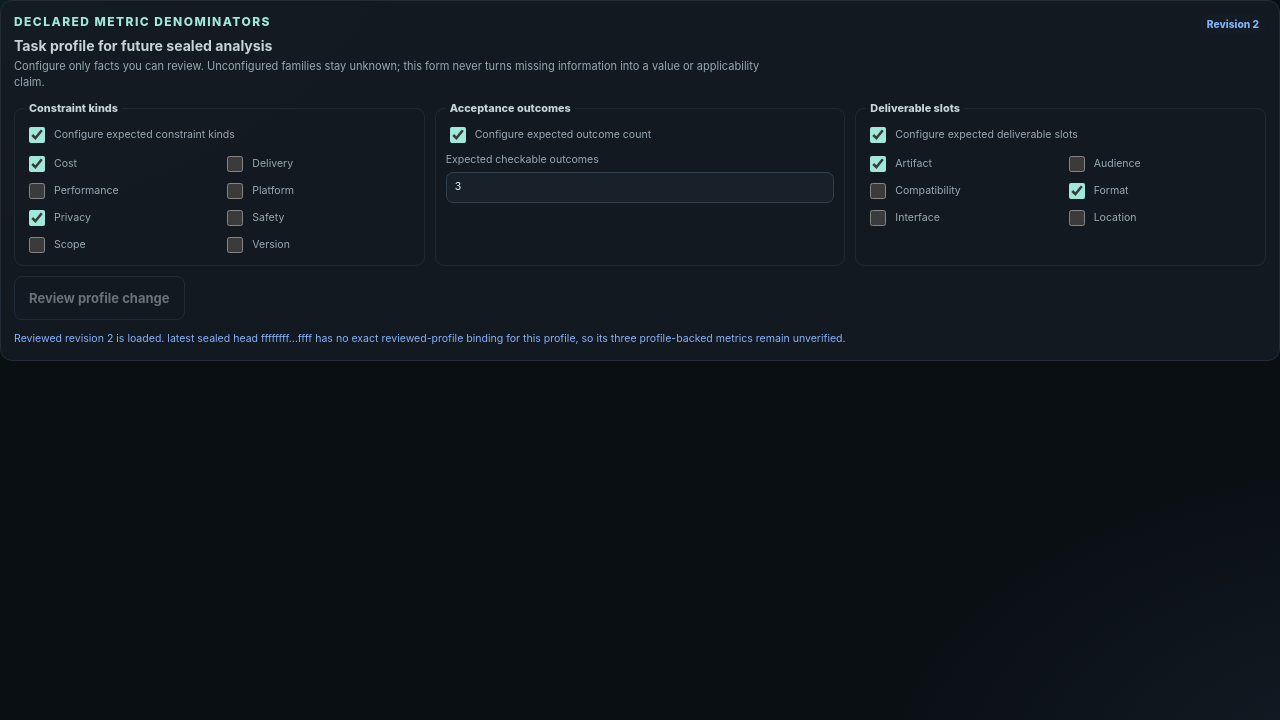
Test: DeclaredTaskProfilePanel › reloads a stale revision conflict without applying the rejected draft
Expected: the text "Revision 2" is shown, [1200,14,1266,34]
Replace the text in the number field labelled "Expected checkable outcomes" with "4" at (640, 188), box [446,172,834,203]
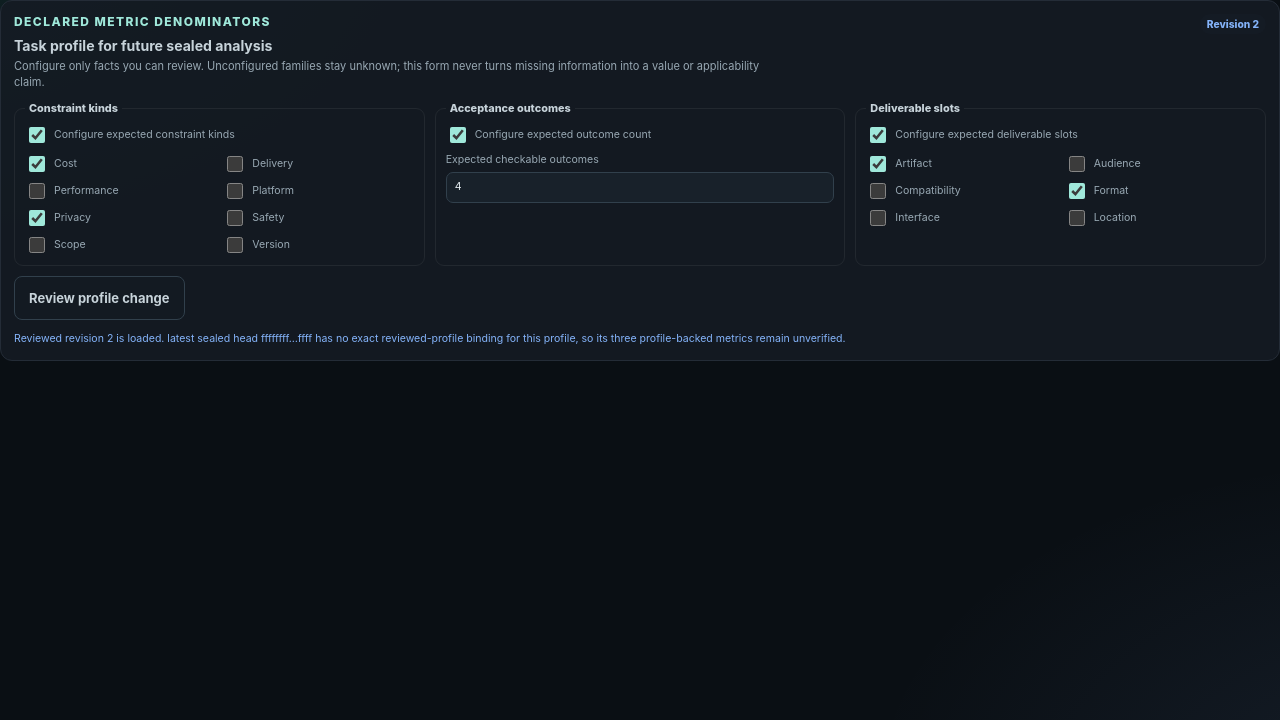
Click the button "Review profile change" at (99, 298), box [14,276,184,320]
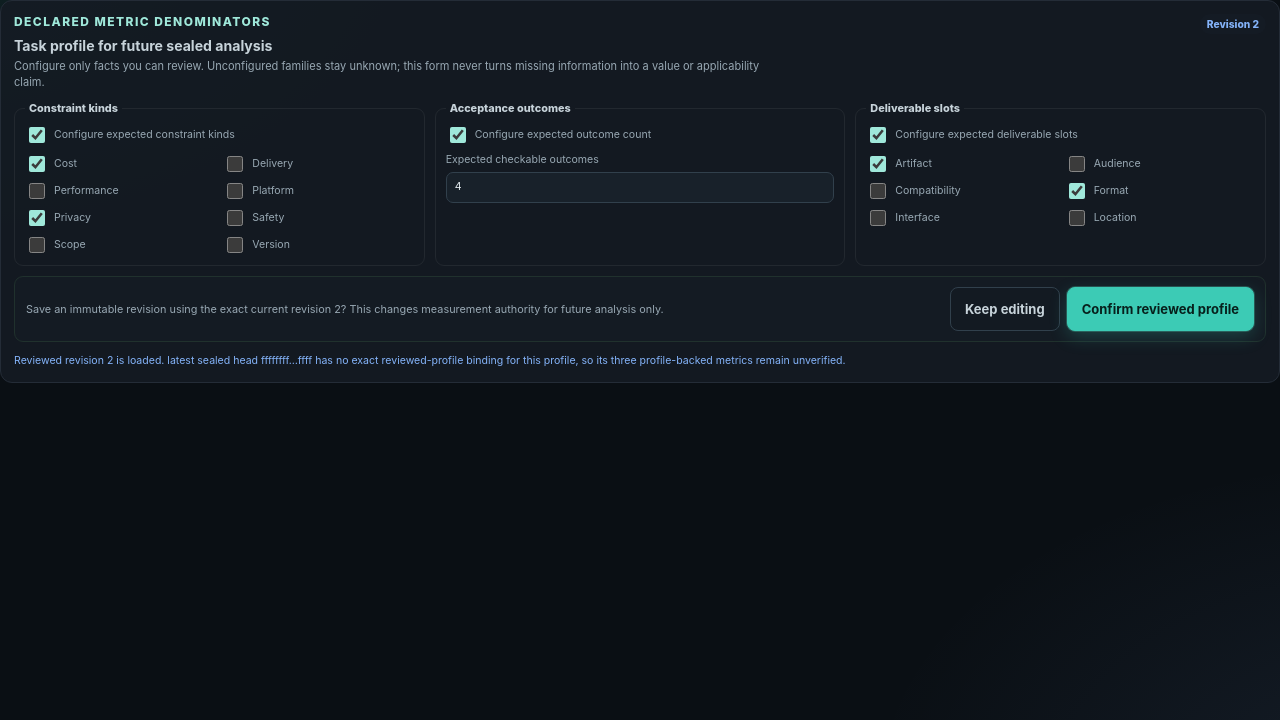
Click the button "Confirm reviewed profile" at (1160, 309), box [1067,287,1254,331]
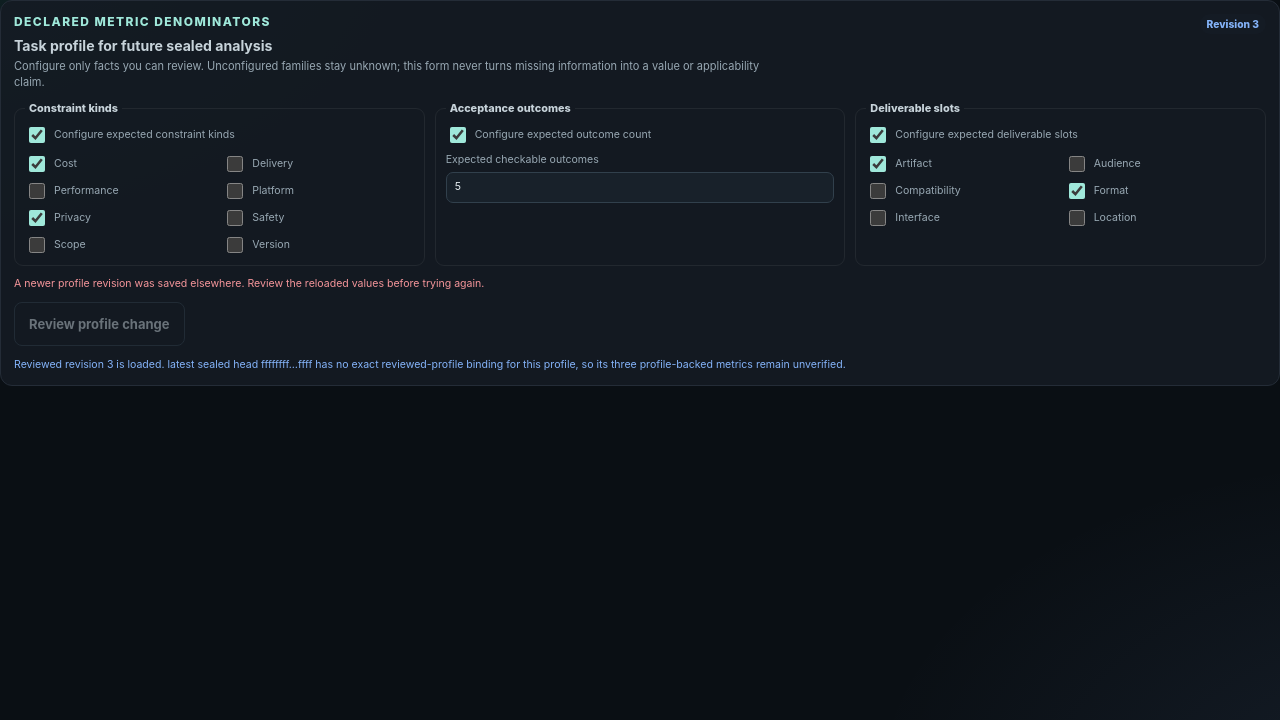
Now the text "Revision 3" is shown, box [1200,14,1266,34]
Now the 1st message shows "newer profile revision was saved elsewhere", box [14,277,484,290]
Now the number field labelled "Expected checkable outcomes" holds "5", box [446,172,834,203]
